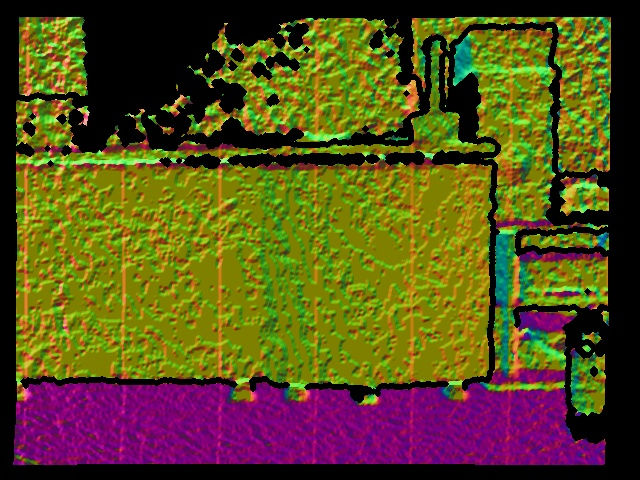station: (408, 35, 461, 144)
